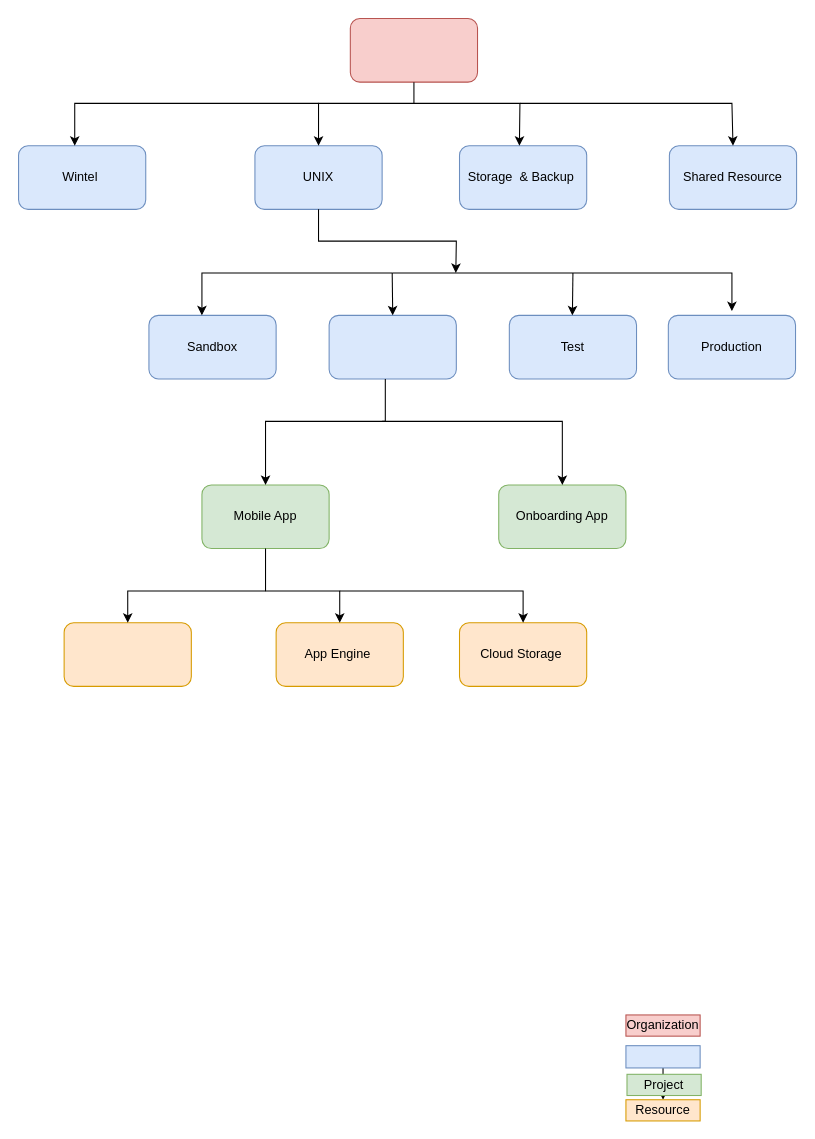
This 815x1139 diagram has some shape labels left out. The centre of each missing label's shape, as x and y in pixels:
Compute Engine: the point at 127,654
Development: the point at 392,346
Folder: the point at 662,1056
TCB: the point at 413,49
